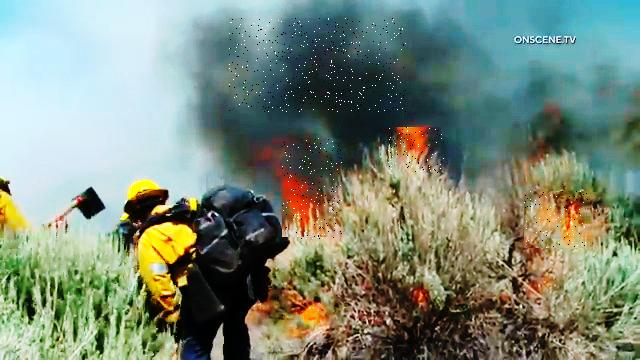fire: (282, 139, 342, 240), (525, 191, 590, 248), (388, 128, 445, 174)
smoke: (229, 19, 406, 113)
